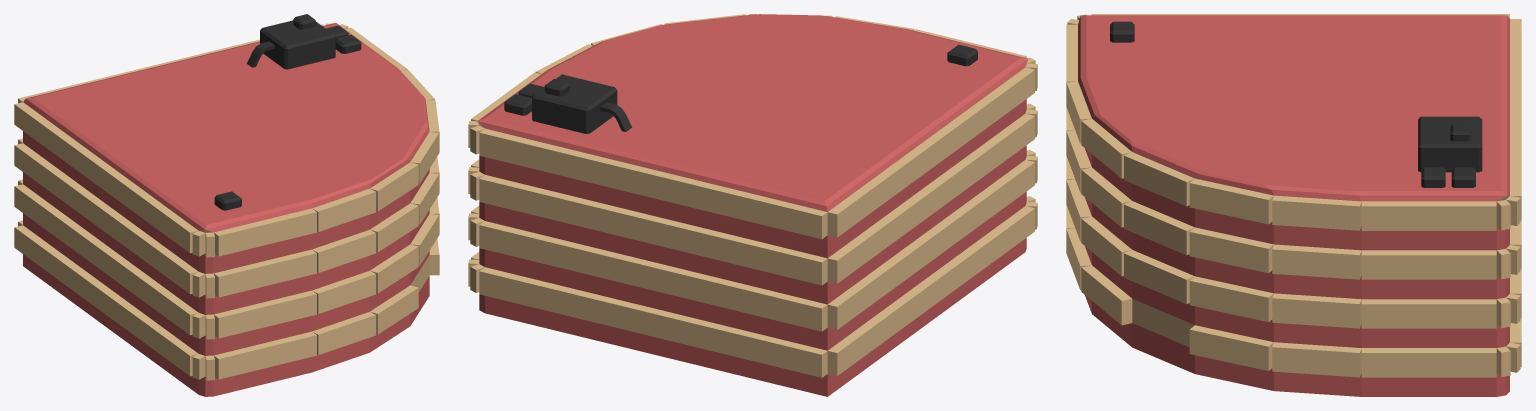
File: predio_pizza.fbx
The picture shows the model from 3 angles, left to right: view 1: azimuth 30°, elevation 25°; view 2: azimuth 150°, elevation 25°; view 3: azimuth 270°, elevation 25°; orthographic projection. The views are drawn at different scales.
Parts seen in each view (by area): view 1: Predio_Pizza; view 2: Predio_Pizza; view 3: Predio_Pizza.
Part boxes in pixels (bbox=[...]): Predio_Pizza: bbox=[14, 14, 439, 396]; Predio_Pizza: bbox=[468, 14, 1037, 396]; Predio_Pizza: bbox=[1066, 14, 1521, 396].
Bounding box in the file's own units: 408 × 236 × 408.
